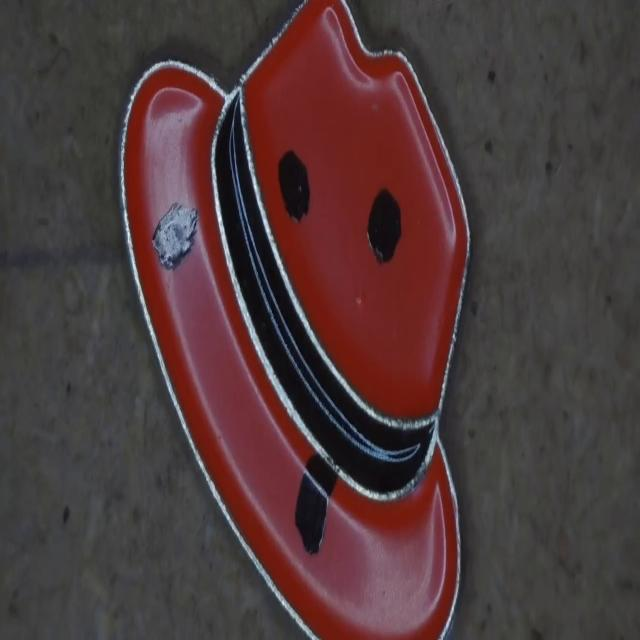Hatband: (214, 91, 435, 496)
Paint_Leak: (295, 453, 338, 553), (152, 202, 198, 268), (368, 189, 401, 262), (279, 151, 310, 221)
RedHatPin: (121, 0, 469, 638)
